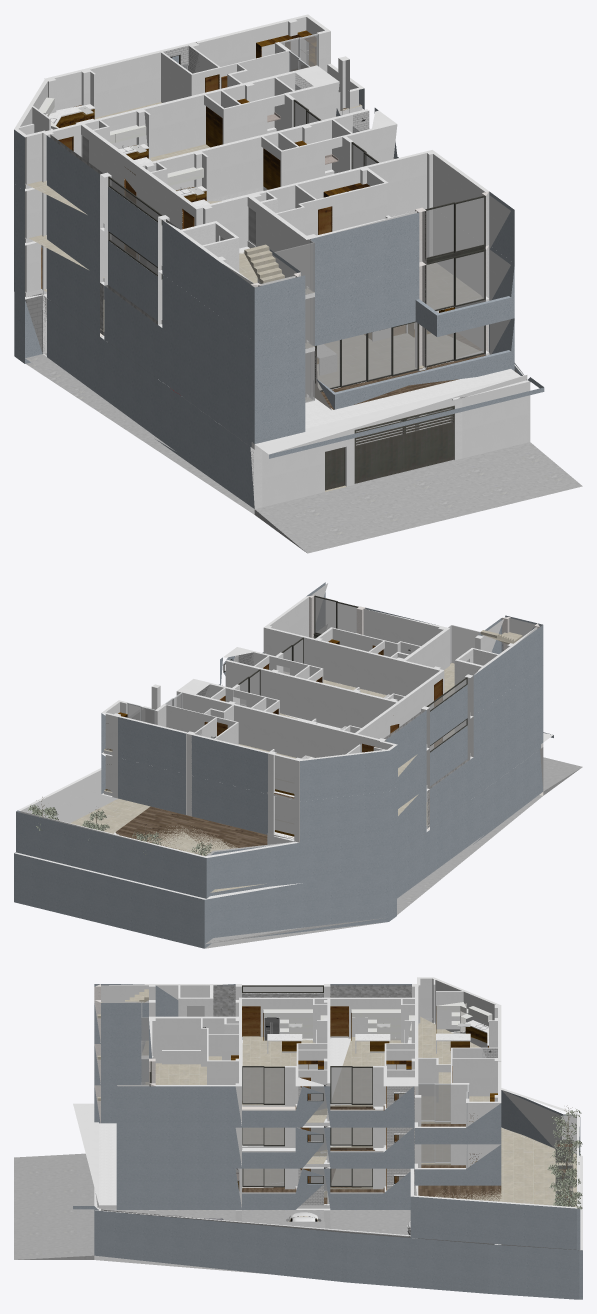
Rendered from torre-arbide-4niveles-lite.glb.
3 renders of one model, top to bottom at view 1: azimuth 30°, elevation 25°; view 2: azimuth 150°, elevation 25°; view 3: azimuth 270°, elevation 25°, orthographic. The views are drawn at different scales.
Visible parts, largest first — view 1: NIVEL03, PlantaBaja, NIVEL01, NIVEL02; view 2: NIVEL03, NIVEL01, PlantaBaja, NIVEL02; view 3: NIVEL03, PlantaBaja, NIVEL01, NIVEL02.
Boxes of the visible parts, bbox=[...] form: NIVEL03: bbox=[14, 14, 514, 341]; PlantaBaja: bbox=[14, 292, 582, 553]; NIVEL01: bbox=[14, 128, 520, 447]; NIVEL02: bbox=[14, 184, 514, 395]; NIVEL03: bbox=[101, 582, 543, 801]; NIVEL01: bbox=[16, 706, 543, 898]; PlantaBaja: bbox=[14, 732, 582, 948]; NIVEL02: bbox=[101, 624, 543, 842]; NIVEL03: bbox=[94, 977, 501, 1144]; PlantaBaja: bbox=[14, 1103, 582, 1299]; NIVEL01: bbox=[94, 1083, 582, 1249]; NIVEL02: bbox=[94, 1020, 501, 1185].
Bounding box in the file's own units: 2.19 × 1.22 × 3.53.
158 materials, 50 textured.
